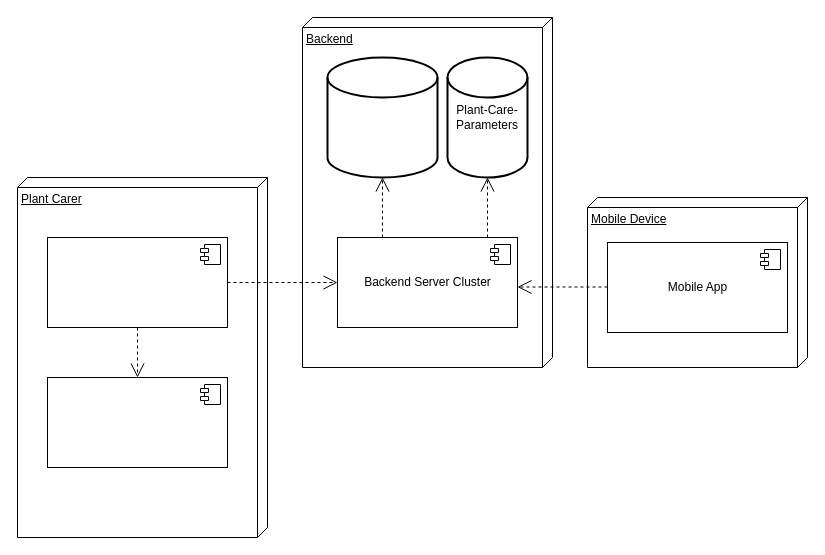
This 825x555 diagram has some shape labels left out. Here are the shapes that lost their labels. From the top down, the centre of each, then its label:
(382,117): User-Device-Plant
(137,282): Plant Carer Software (PCS)
(137,422): Plant Carer Hardware (PCH)
